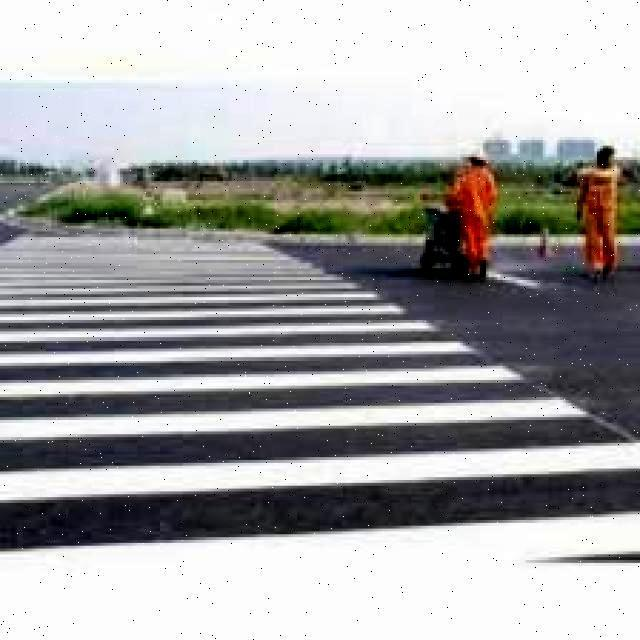crosswalk: (0, 226, 615, 638)
